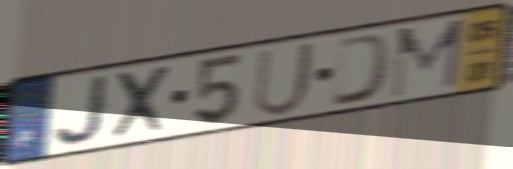5: (194, 49, 247, 128)
D: (328, 30, 395, 109)
J: (51, 71, 113, 149)
M: (387, 15, 467, 102)
U: (250, 38, 320, 119)
X: (108, 62, 174, 143)
